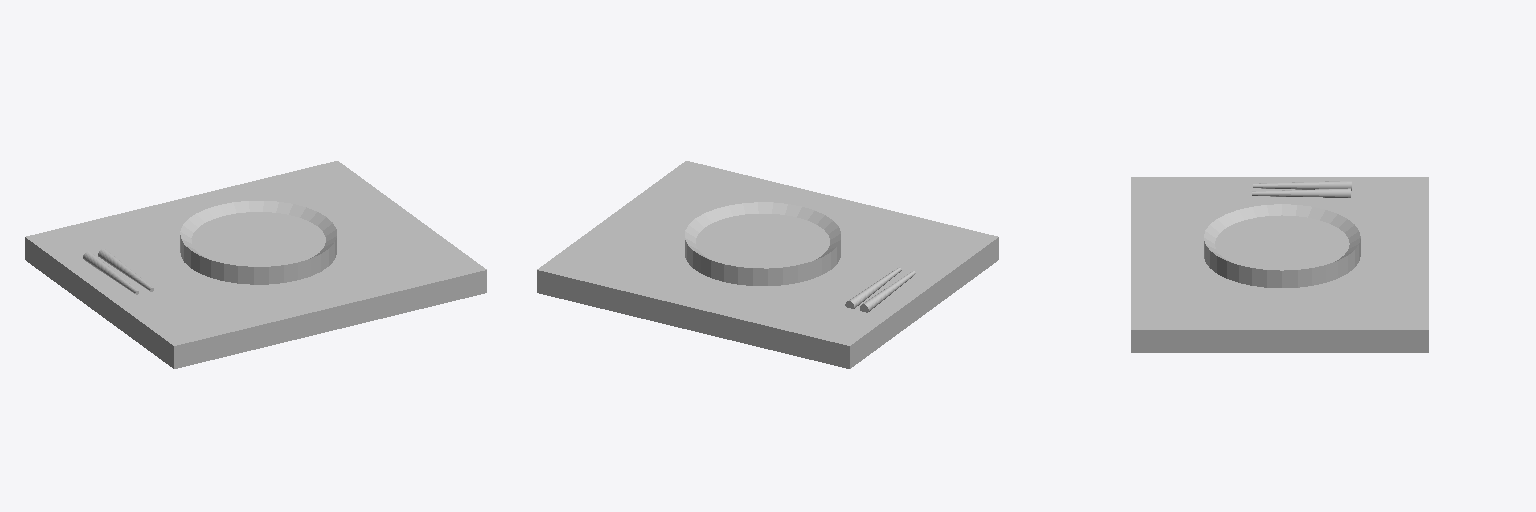
File: PlaceMat.obj
3 views of the same model, side by side, from view 1: azimuth 30°, elevation 25°; view 2: azimuth 150°, elevation 25°; view 3: azimuth 270°, elevation 25° (orthographic).
Visible parts, largest first — view 1: PlaceMat; view 2: PlaceMat; view 3: PlaceMat.
Part boxes in pixels (x1,y1,x2,y2): PlaceMat: (25,161,486,368); PlaceMat: (537,161,998,368); PlaceMat: (1131,177,1428,352).
Bounding box in the file's own units: 1.29 × 0.1612 × 1.06.